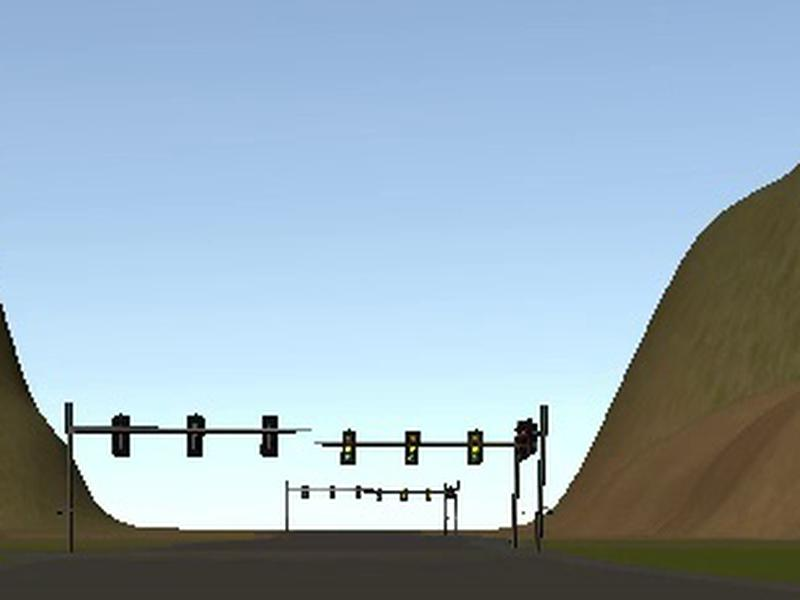Yellow: (466, 430, 484, 465), (341, 430, 357, 465), (405, 430, 420, 466)
